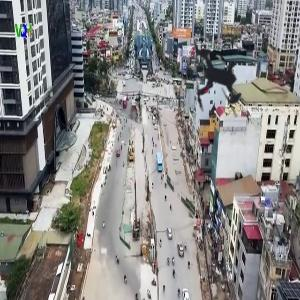drone: (153, 16, 279, 142)
